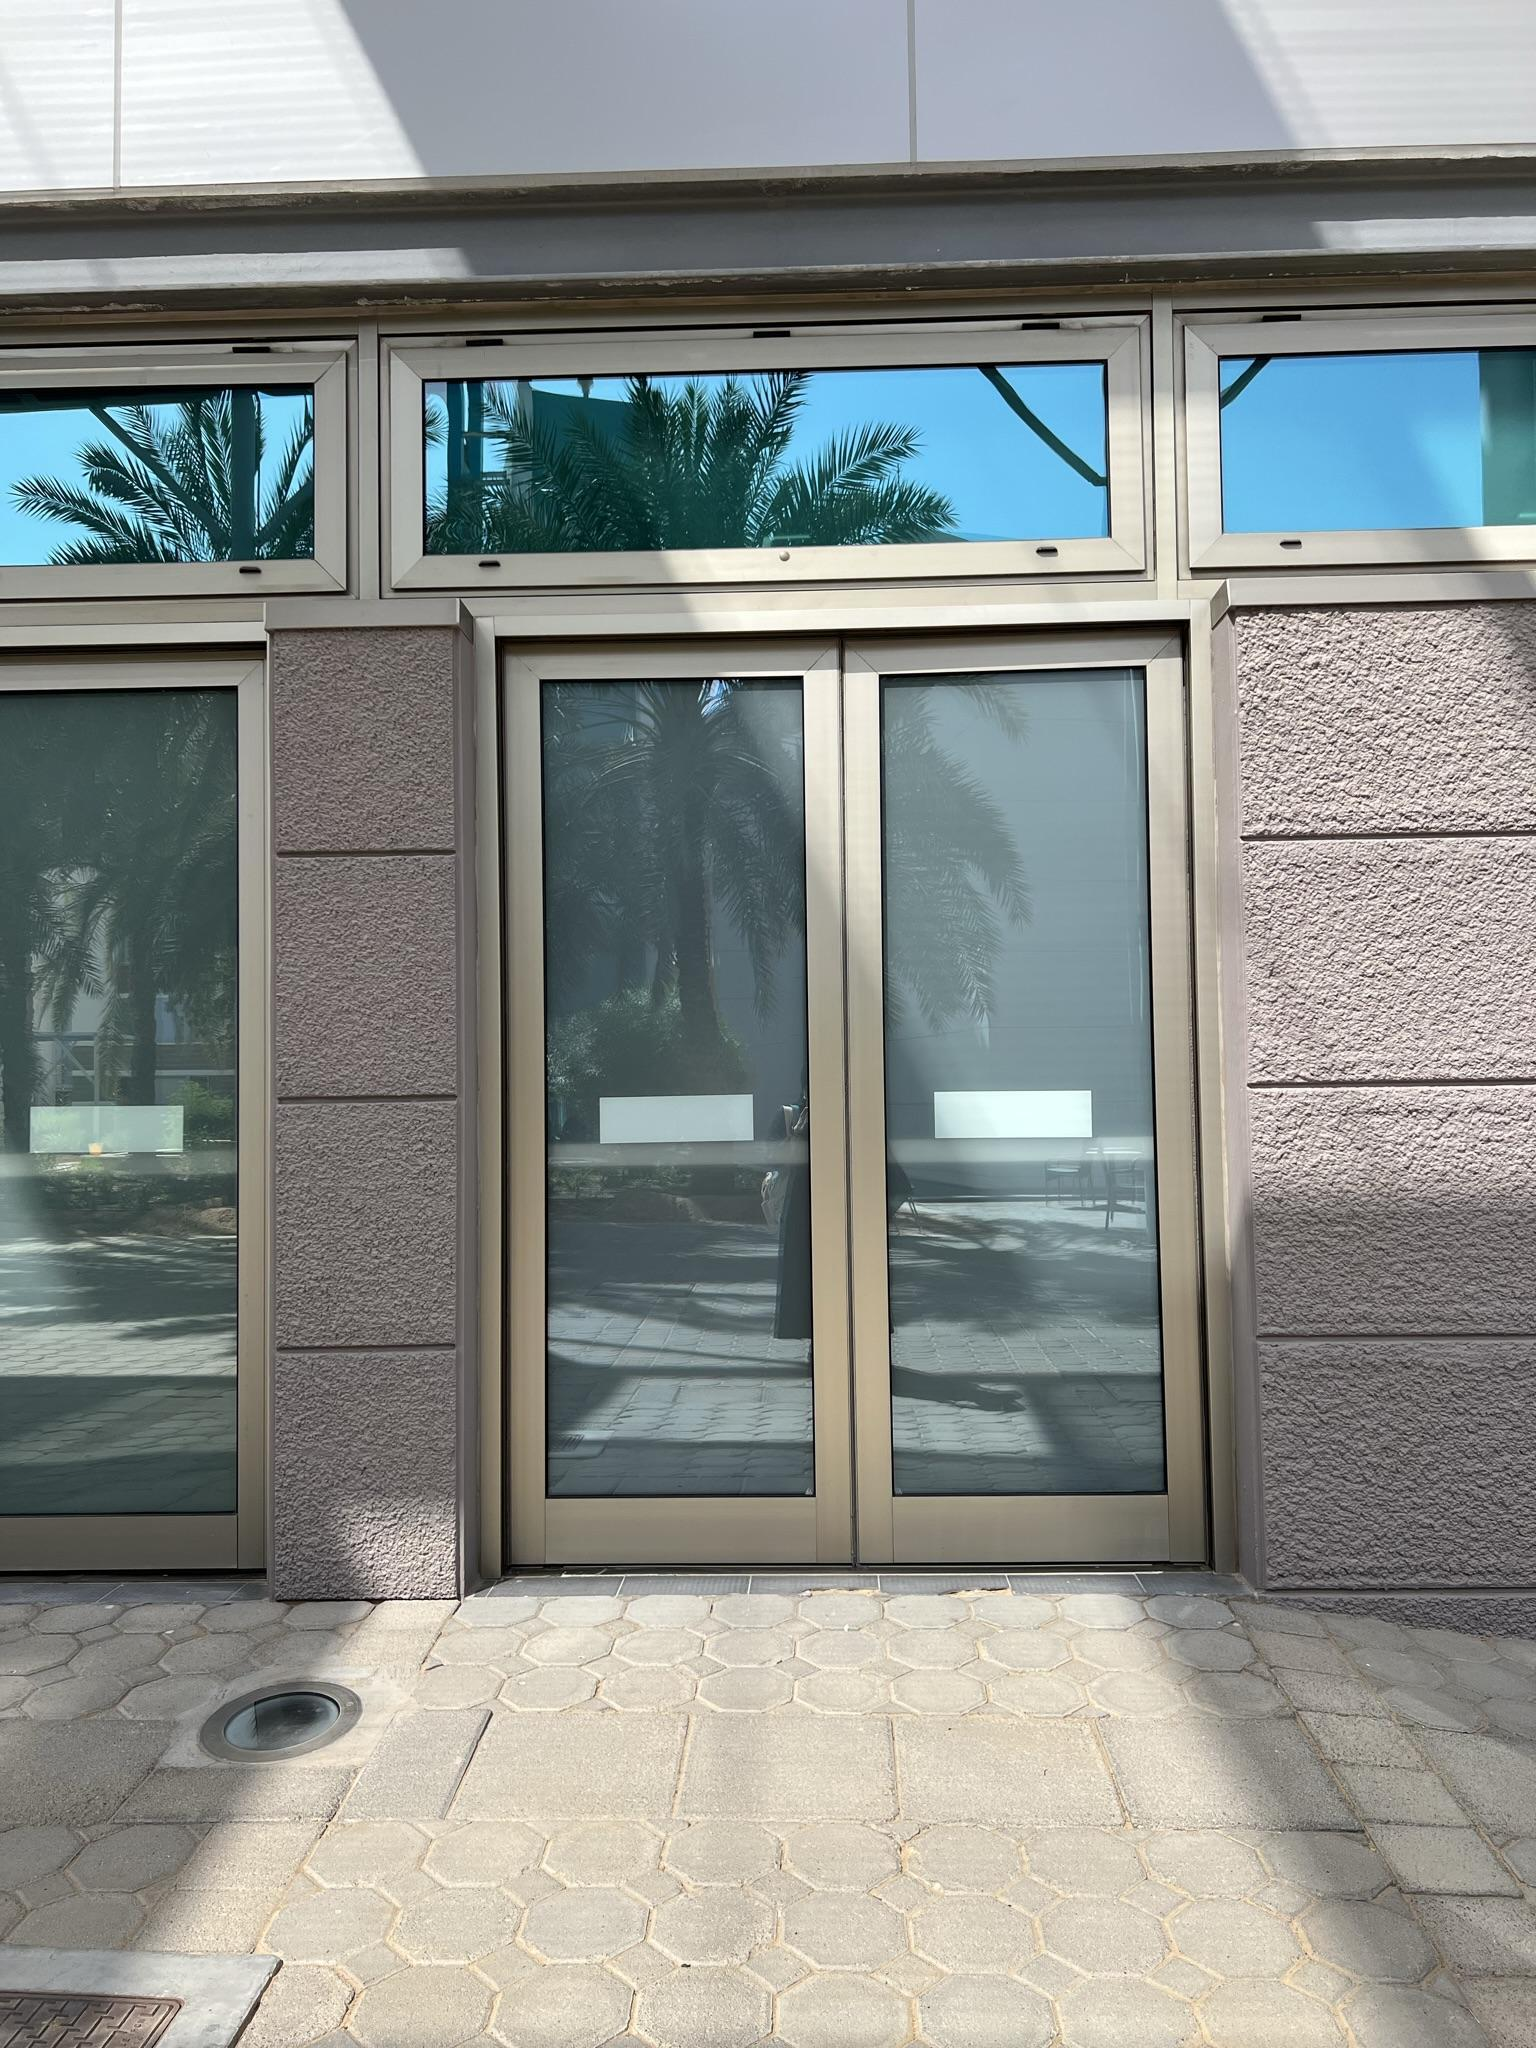door: (842, 640, 1225, 1558), (507, 645, 849, 1566)
